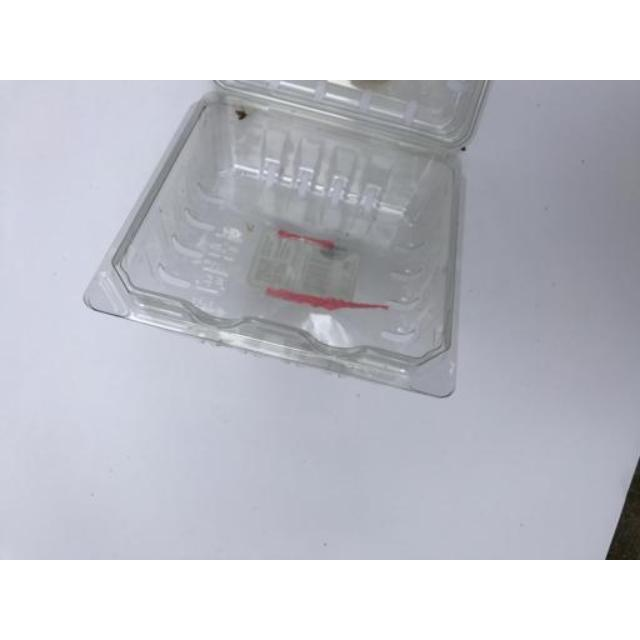plastic: (84, 80, 487, 396)
